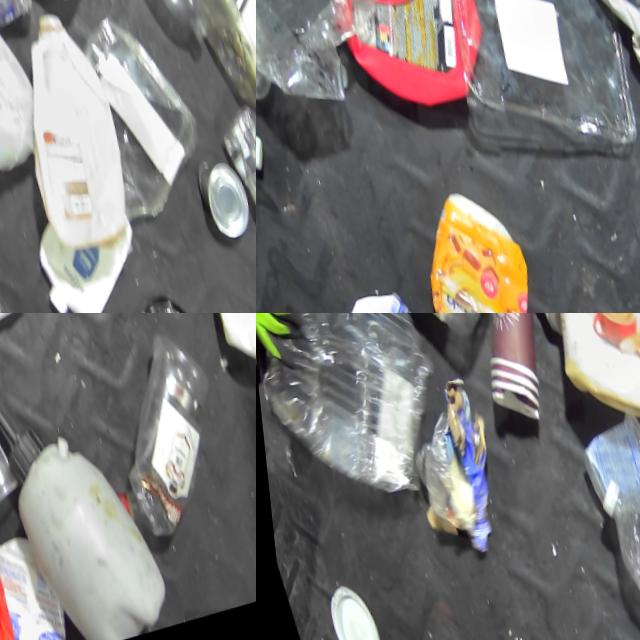can: (179, 155, 250, 268)
milk_jug: (0, 4, 142, 285), (536, 0, 640, 84), (0, 0, 43, 200), (165, 313, 256, 390)
non_white_jug: (317, 0, 493, 125), (393, 184, 552, 313), (517, 313, 640, 425)
plastic_bottle: (64, 332, 240, 561), (92, 0, 211, 76), (405, 313, 491, 340)
